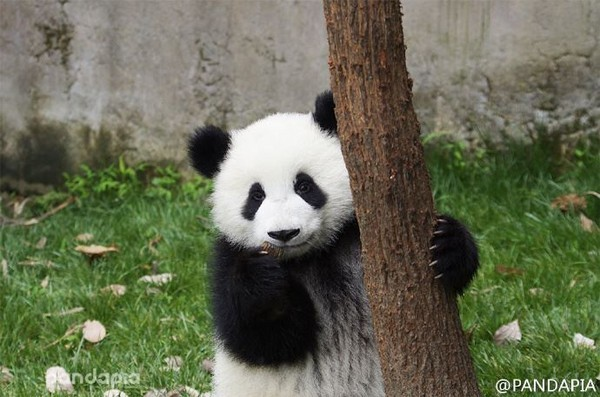panda: (185, 89, 483, 397)
